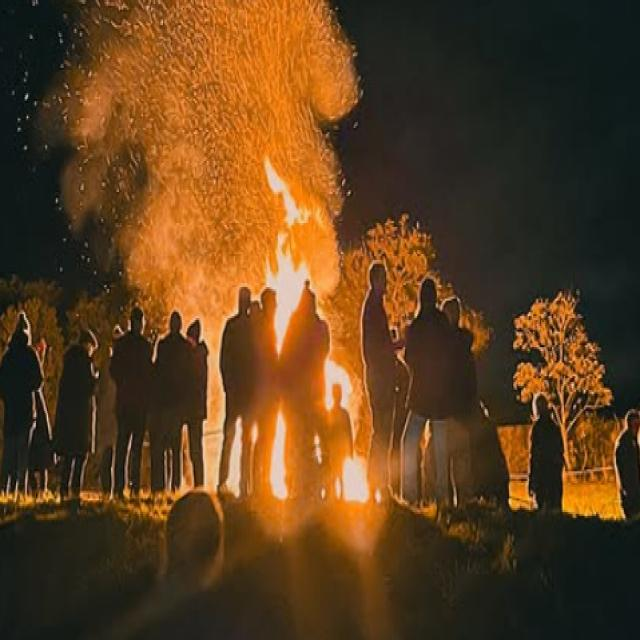fire: (265, 232, 311, 360), (265, 153, 311, 228), (203, 365, 223, 495), (335, 453, 368, 503), (324, 359, 353, 413), (270, 407, 287, 497), (225, 416, 242, 498), (197, 315, 222, 365)
